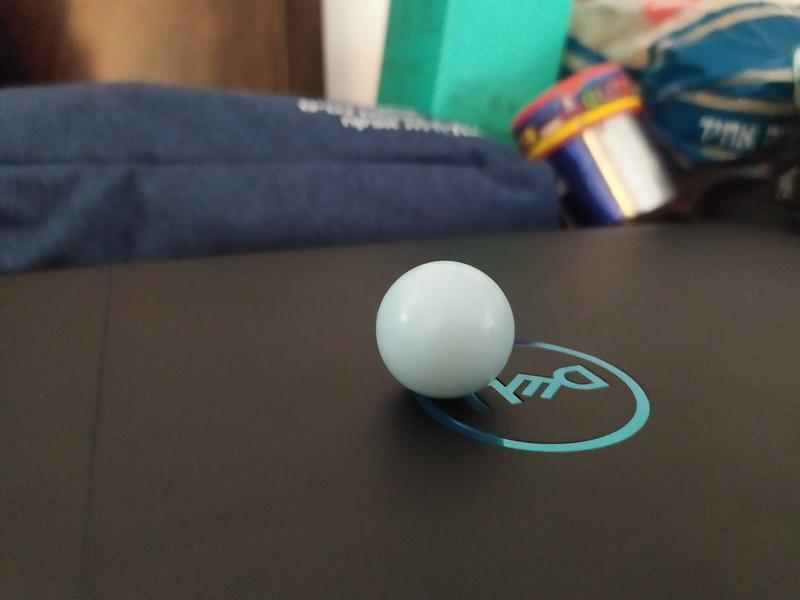Warning: (372, 257, 518, 402)
